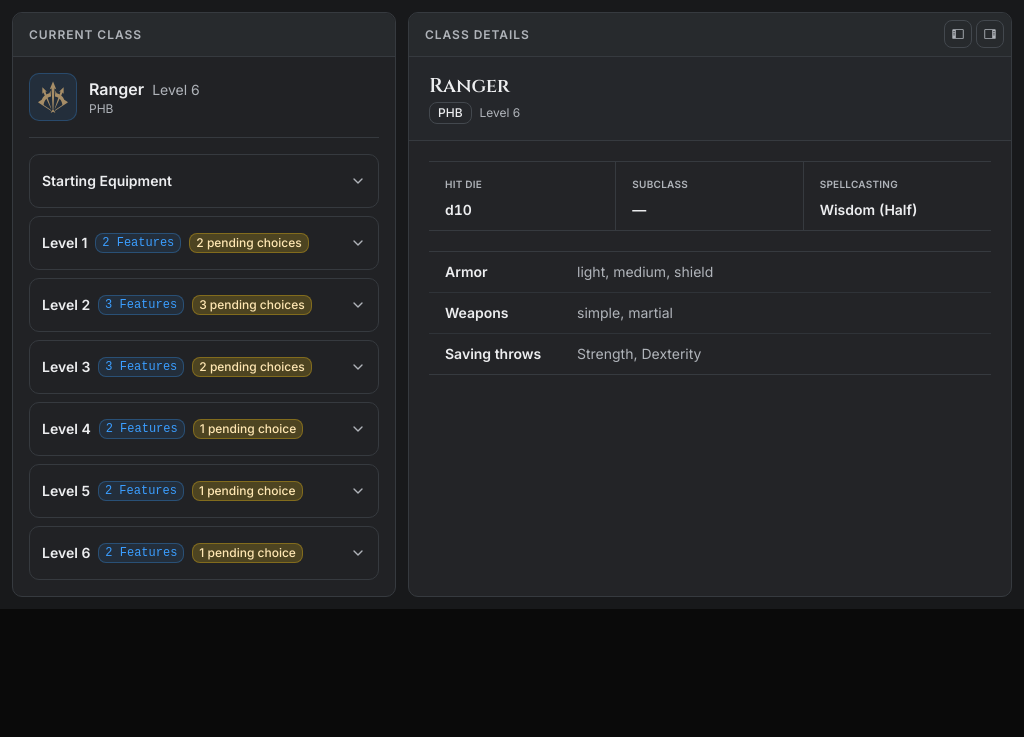
Test case: replacement tabs keep keyboard focus separate from adoption and contain only the selected setup
Click the button "Level 1 2 Features 2 pending choices" at [204, 243], box [30, 217, 378, 269]
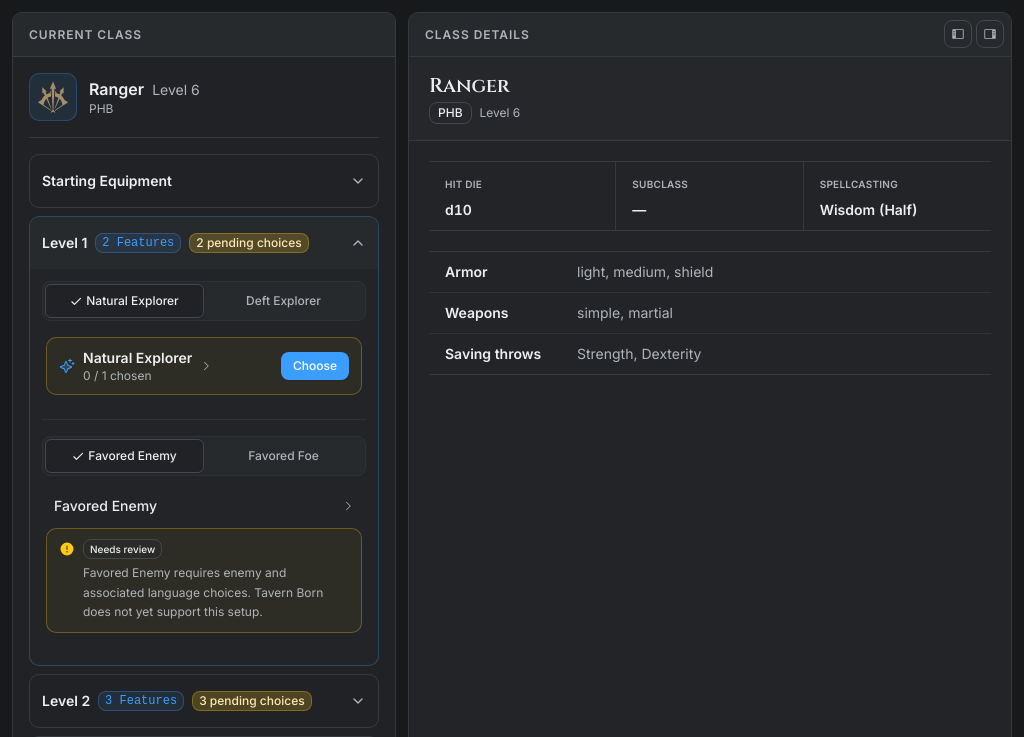
Press Enter in the tab "Deft Explorer", box [204, 284, 363, 318]
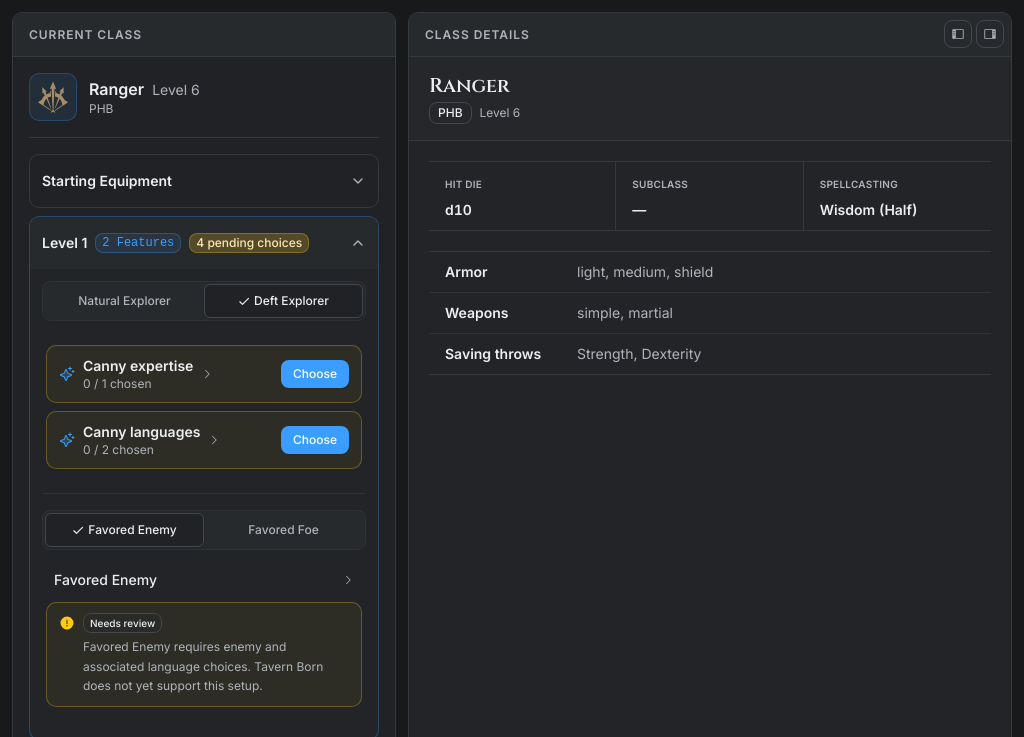
Result: the element "Canny expertise" is shown at [46, 345, 362, 403]
Result: the element "Canny languages" is shown at [46, 411, 362, 469]
